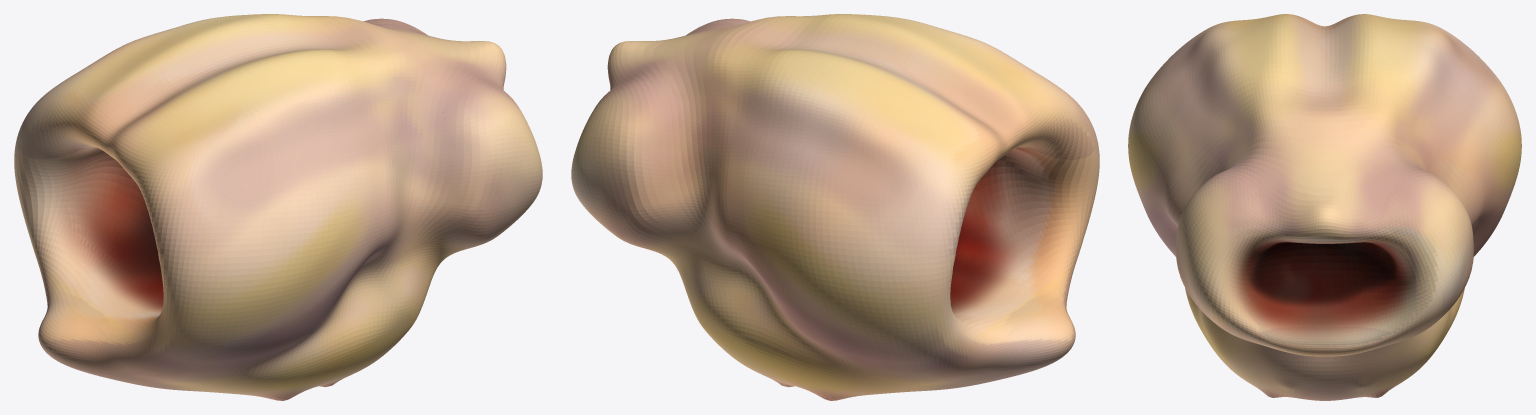
File: Chicken New origin.fbx
The picture shows the model from 3 angles, left to right: view 1: azimuth 30°, elevation 25°; view 2: azimuth 150°, elevation 25°; view 3: azimuth 270°, elevation 25°; orthographic projection. The views are drawn at different scales.
Visible parts, largest first — view 1: Quad Sphere; view 2: Quad Sphere; view 3: Quad Sphere.
Boxes of the visible parts, left/top/right/bottom form: Quad Sphere: left=14, top=14, right=542, bottom=400; Quad Sphere: left=571, top=14, right=1099, bottom=400; Quad Sphere: left=1128, top=14, right=1521, bottom=400.
Size of the model in its own units: 412 by 288 by 313.
Materials: 1 (1 with a texture image).
